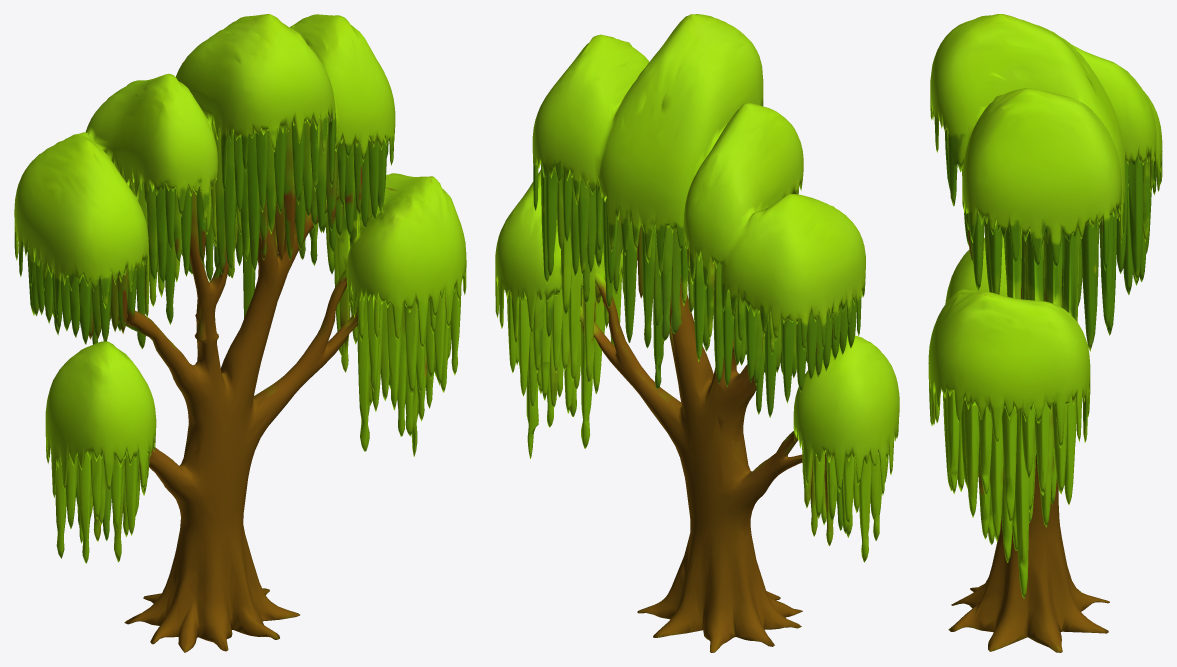
File: swamptree.glb
The picture shows the model from 3 angles, left to right: view 1: azimuth 30°, elevation 25°; view 2: azimuth 150°, elevation 25°; view 3: azimuth 270°, elevation 25°; orthographic projection. The views are drawn at different scales.
Visible parts, largest first — view 1: node_0; view 2: node_0; view 3: node_0.
Part boxes in pixels (x1,y1,x2,y2): node_0: (14,14,466,652); node_0: (495,14,899,652); node_0: (928,14,1162,652).
Bounding box in the file's own units: 0.7644 × 1.12 × 0.3813.
1 material, 1 textured.
